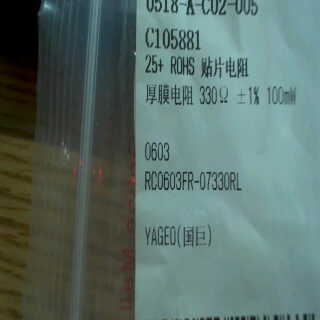330R: (195, 83, 230, 107)
